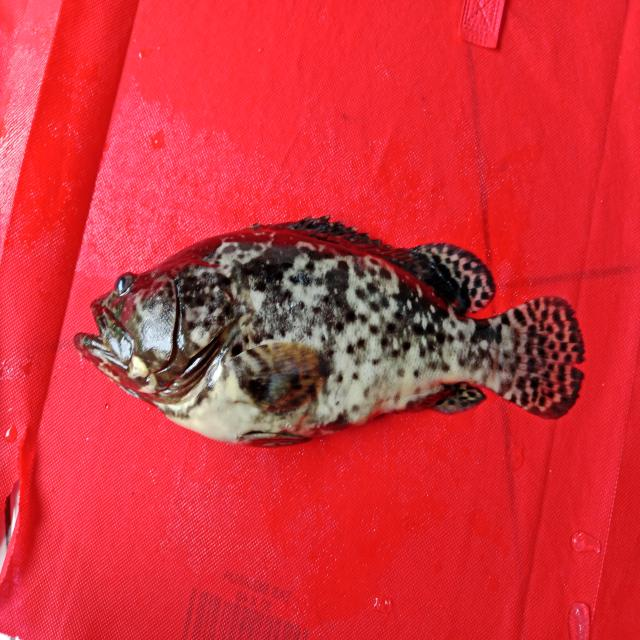ikan: (74, 200, 592, 486)
